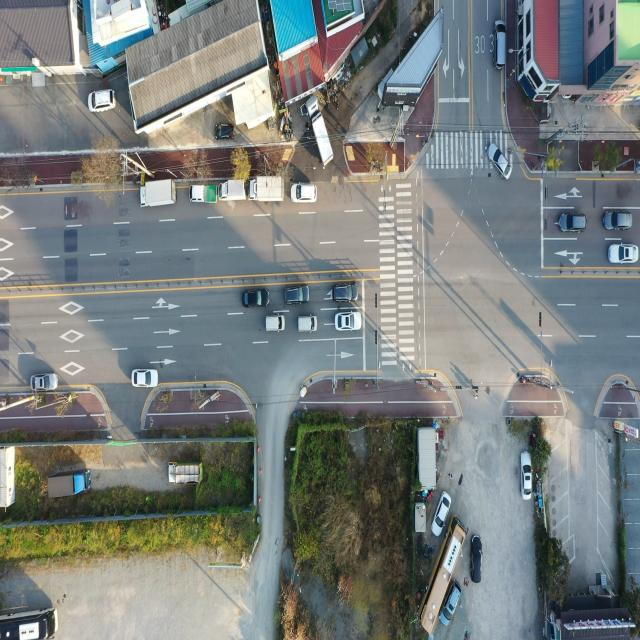car: (438, 578, 461, 632), (432, 488, 451, 538), (490, 144, 511, 182), (493, 22, 507, 74), (89, 90, 118, 114), (213, 118, 236, 146), (610, 244, 640, 264), (470, 534, 482, 580), (292, 182, 318, 203), (559, 213, 586, 233), (606, 211, 633, 231), (336, 312, 362, 332), (31, 373, 58, 392), (284, 285, 309, 305), (132, 368, 158, 387), (243, 289, 268, 308), (522, 452, 532, 499), (332, 285, 358, 303), (297, 314, 316, 335), (266, 315, 285, 333)
large_bus: (419, 512, 467, 636), (0, 608, 58, 640)
medium_truck: (304, 96, 338, 169), (46, 468, 92, 500), (138, 177, 177, 210), (248, 170, 286, 201)
small_truck: (165, 458, 204, 487), (186, 181, 217, 204), (220, 181, 246, 203)
